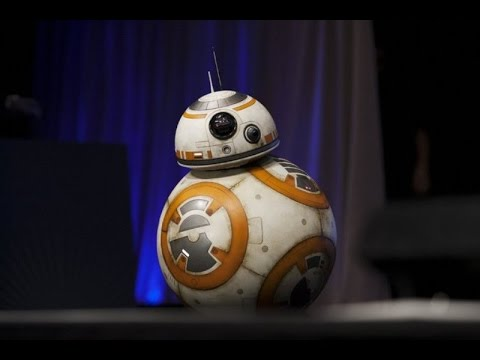bb8: (156, 90, 337, 308)
